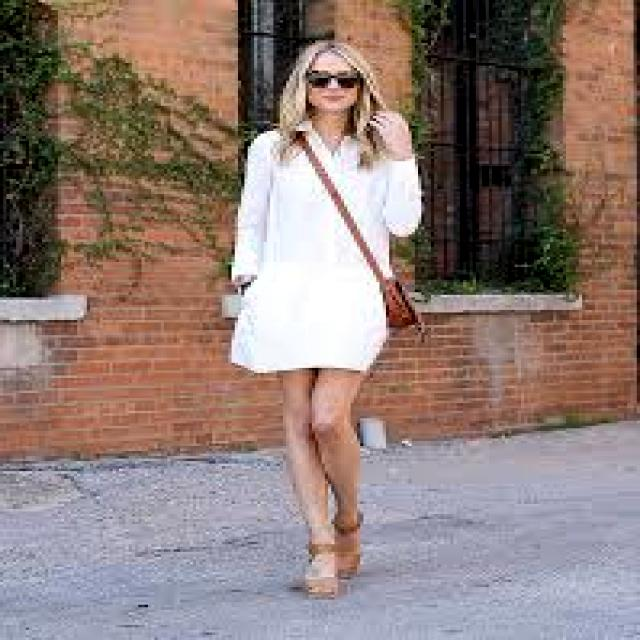dress: (232, 129, 389, 372)
